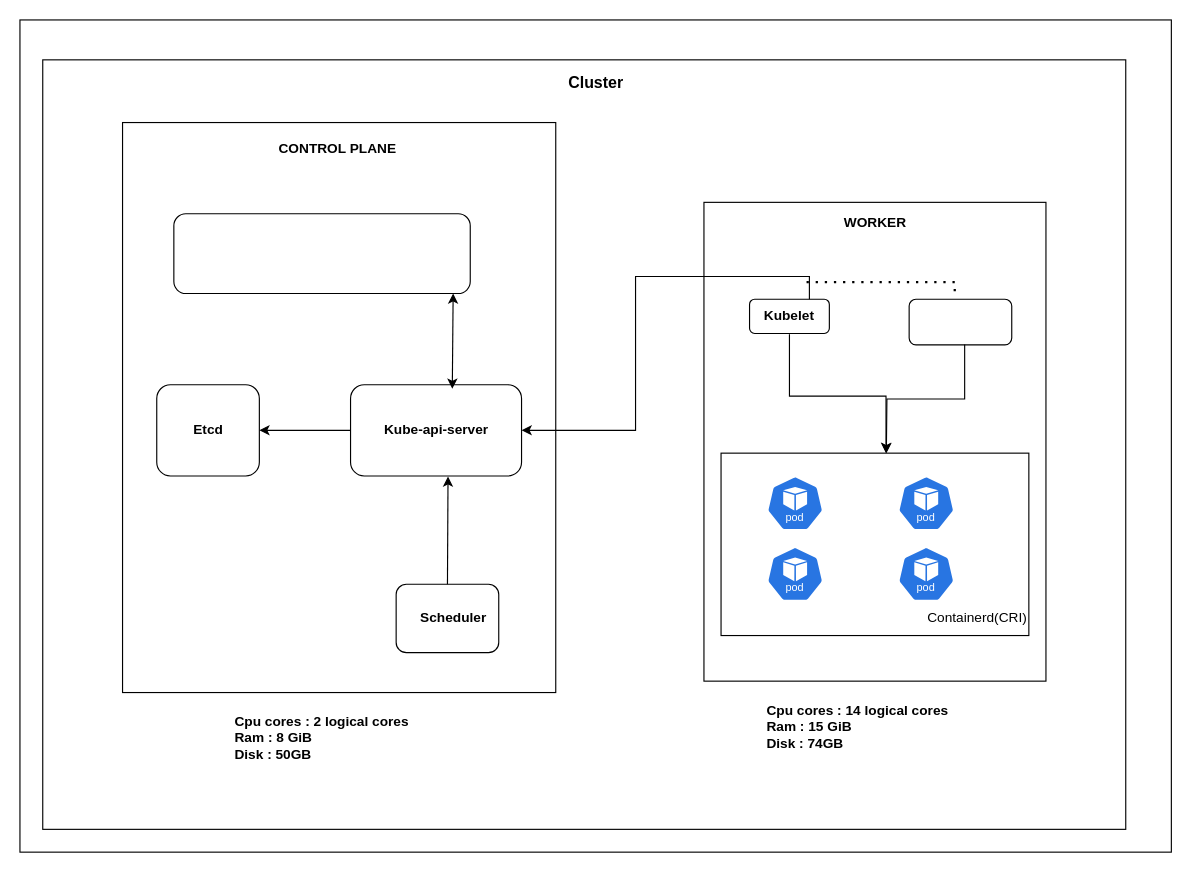
This 1191x872 diagram has some shape labels left out. Here are the shapes that lost their labels. From the top down, the box of each, then its label:
(173, 213, 470, 294): Controller-manager
(908, 298, 1012, 345): kube-proxy
